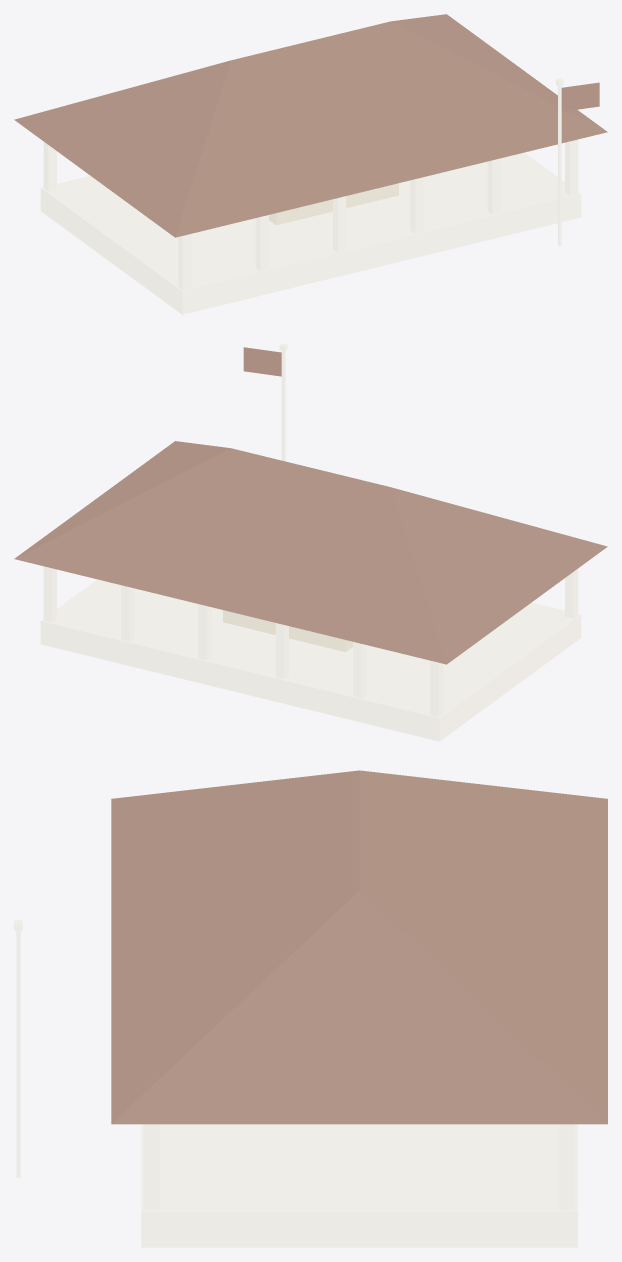
File: Blender_Clubhouse_pavilion.glb
3 renders of one model, top to bottom at view 1: azimuth 30°, elevation 25°; view 2: azimuth 150°, elevation 25°; view 3: azimuth 270°, elevation 25°, orthographic. The views are drawn at different scales.
Visible parts, largest first — view 1: Blender_Clubhouse_pavilion; view 2: Blender_Clubhouse_pavilion; view 3: Blender_Clubhouse_pavilion.
Boxes of the visible parts, x1,y1,x2,y2 form: Blender_Clubhouse_pavilion: [14, 14, 607, 314]; Blender_Clubhouse_pavilion: [14, 343, 607, 741]; Blender_Clubhouse_pavilion: [14, 770, 607, 1247].
Size of the model in its own units: 28.2 by 11.3 by 21.76.
